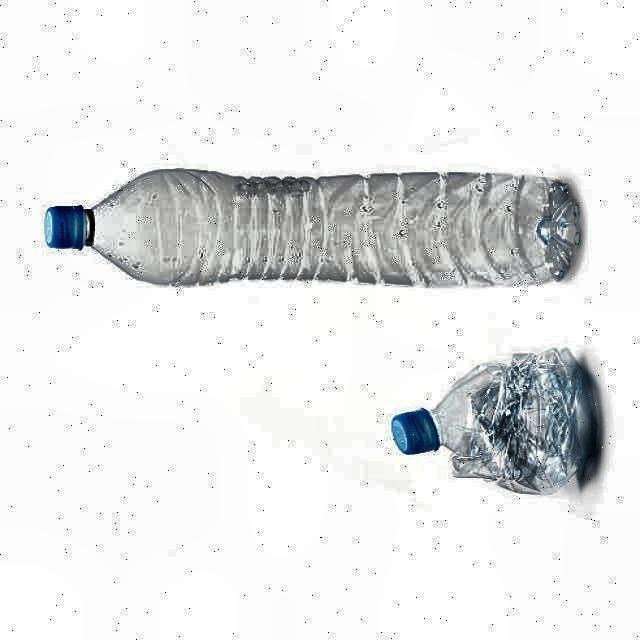plastic: (45, 170, 580, 286), (391, 349, 600, 493)
